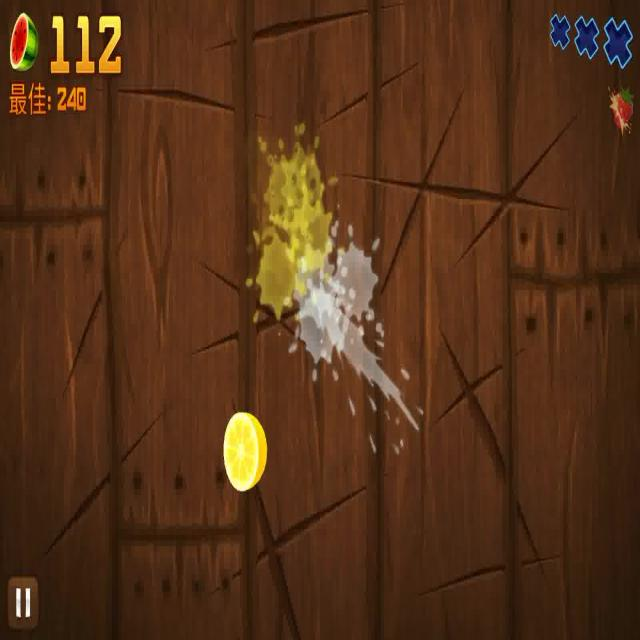fruit: (219, 413, 273, 497)
